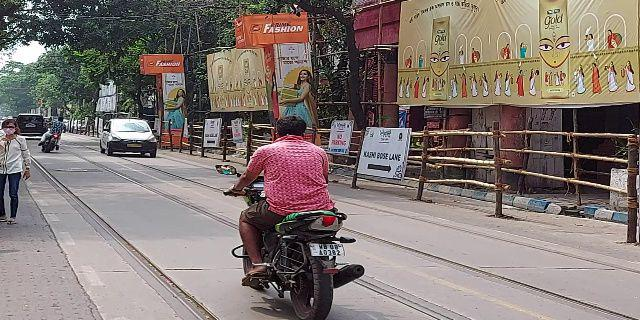Car: (96, 115, 159, 160)
Motorbike: (213, 118, 366, 320), (37, 113, 64, 157)
